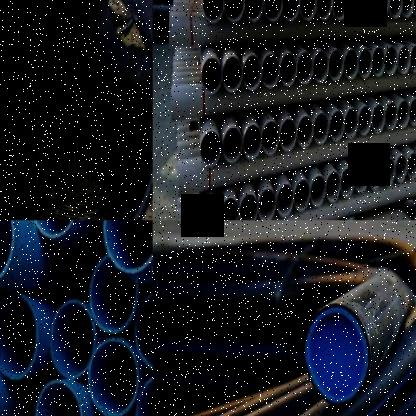pipe: (0, 0, 152, 220), (303, 304, 370, 406), (88, 338, 139, 416), (88, 256, 138, 333), (50, 299, 96, 379), (0, 292, 38, 379), (102, 220, 152, 274), (35, 379, 82, 416), (134, 291, 153, 372), (31, 220, 81, 239), (0, 220, 14, 284), (222, 56, 243, 93), (201, 57, 222, 94), (135, 373, 153, 416), (222, 127, 243, 163), (200, 131, 221, 166), (261, 52, 280, 90), (243, 124, 262, 160), (243, 55, 262, 90), (279, 51, 297, 87), (276, 184, 295, 218), (297, 50, 314, 86), (262, 121, 280, 155), (258, 188, 277, 220), (279, 119, 297, 152), (297, 115, 314, 148), (294, 179, 311, 212), (313, 112, 329, 146), (328, 49, 344, 81), (310, 175, 326, 207), (224, 0, 245, 24), (313, 51, 328, 84), (239, 194, 258, 220), (202, 0, 223, 23), (344, 48, 359, 80), (329, 110, 344, 142), (341, 166, 356, 198), (326, 171, 341, 203), (219, 198, 239, 220), (354, 165, 369, 194), (359, 48, 373, 78), (344, 108, 358, 138), (245, 0, 263, 23), (358, 106, 372, 135), (264, 0, 282, 22), (382, 158, 396, 186), (385, 102, 398, 132), (372, 104, 385, 134), (369, 160, 382, 190), (198, 202, 219, 220), (372, 48, 385, 77), (283, 0, 300, 22), (386, 46, 398, 75), (398, 46, 410, 74), (395, 155, 407, 182), (316, 0, 332, 20), (299, 0, 315, 20), (332, 0, 348, 19), (361, 0, 376, 20), (398, 100, 409, 127), (347, 0, 361, 19), (374, 0, 388, 19), (389, 0, 402, 19), (407, 153, 416, 180), (401, 0, 414, 18), (409, 98, 416, 127), (411, 45, 416, 73), (414, 0, 416, 17)
